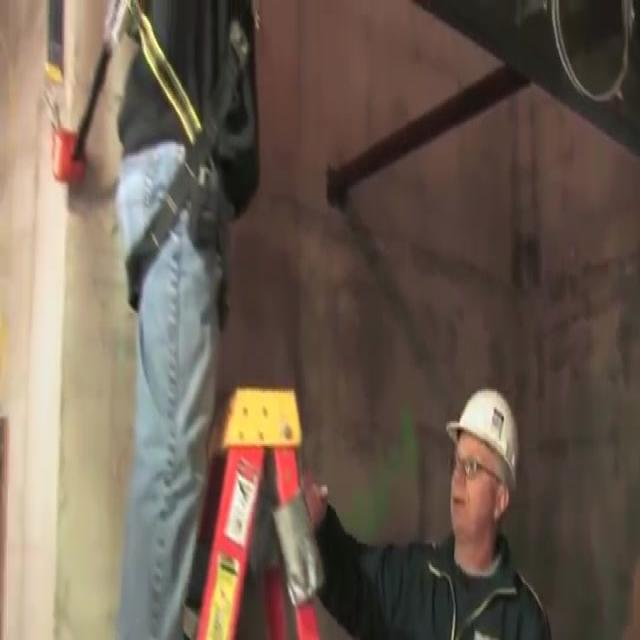Safety-Helmet: (440, 370, 539, 501)
